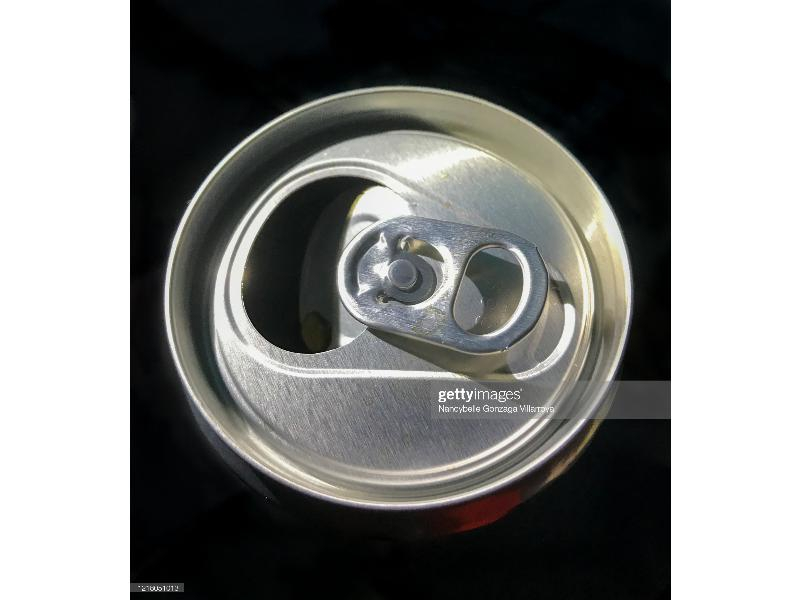can: (169, 85, 633, 501)
